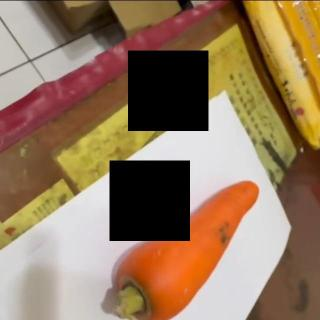carrot: (110, 177, 259, 320)
